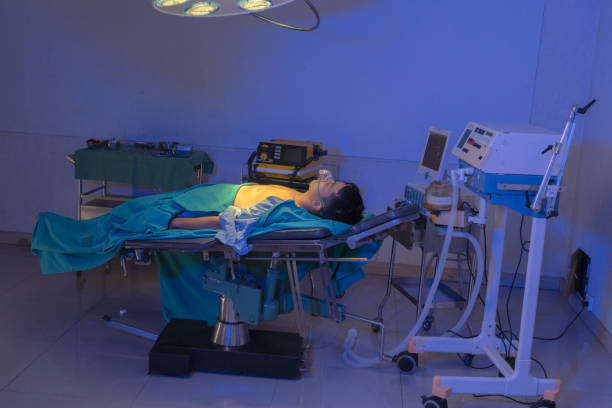bedside_monitor: (419, 121, 450, 183)
breathing_tube: (344, 166, 484, 368)
electrosurgical_unit: (244, 136, 331, 181)
operating_bed: (32, 206, 406, 374)
patient: (169, 178, 362, 228)
surgical_light: (147, 1, 334, 36)
utility_cart: (68, 136, 214, 210)
ventilator: (449, 92, 600, 246)
